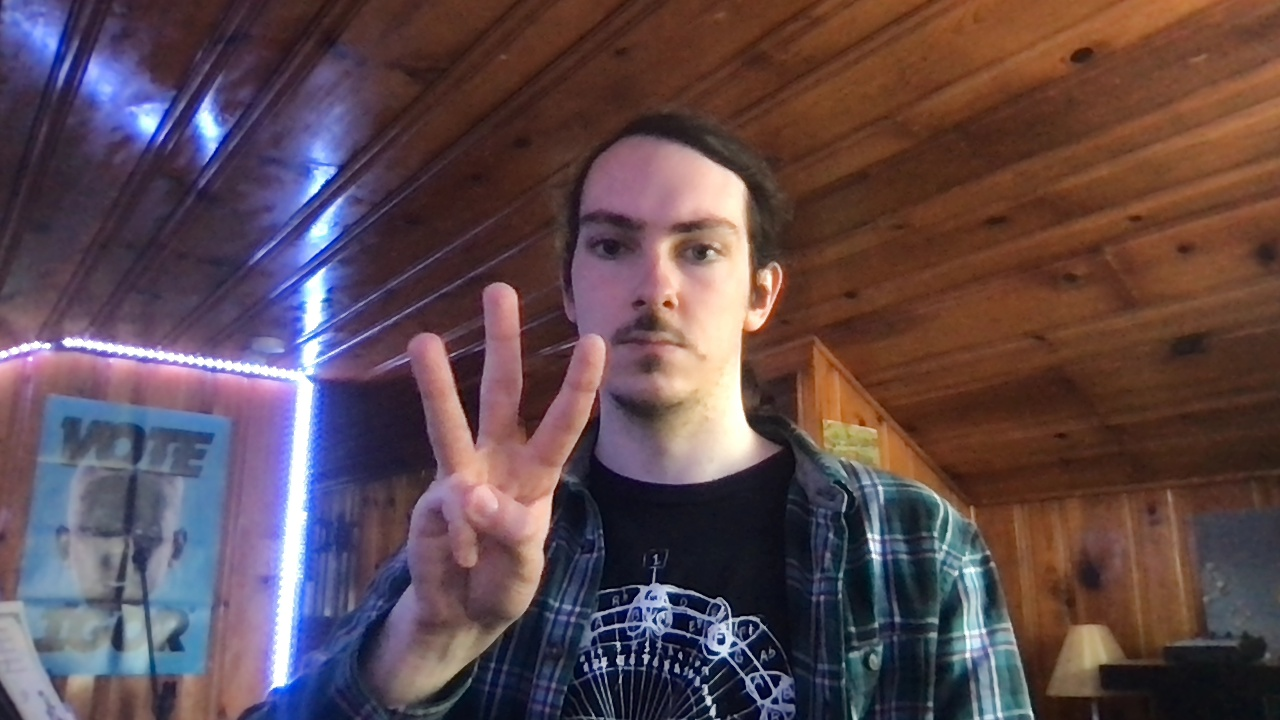w: (405, 280, 606, 630)
